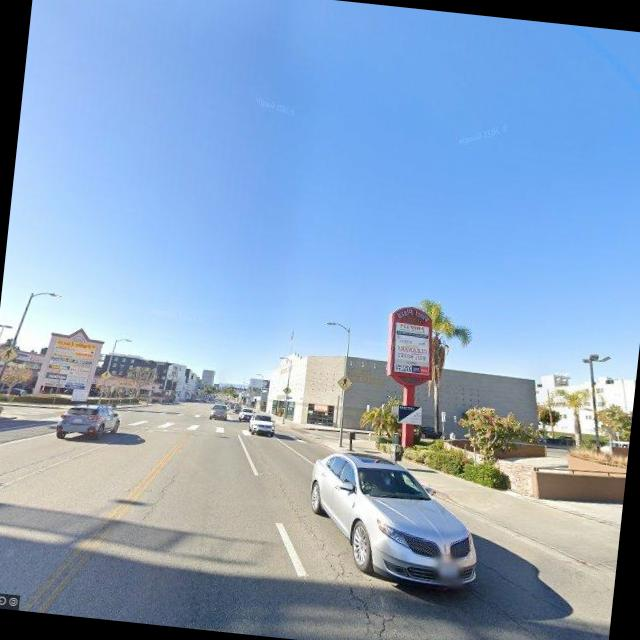crack: (270, 494, 417, 640), (141, 463, 183, 528)
